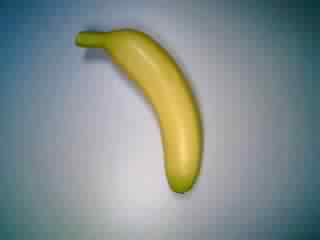banana: (67, 22, 210, 194)
